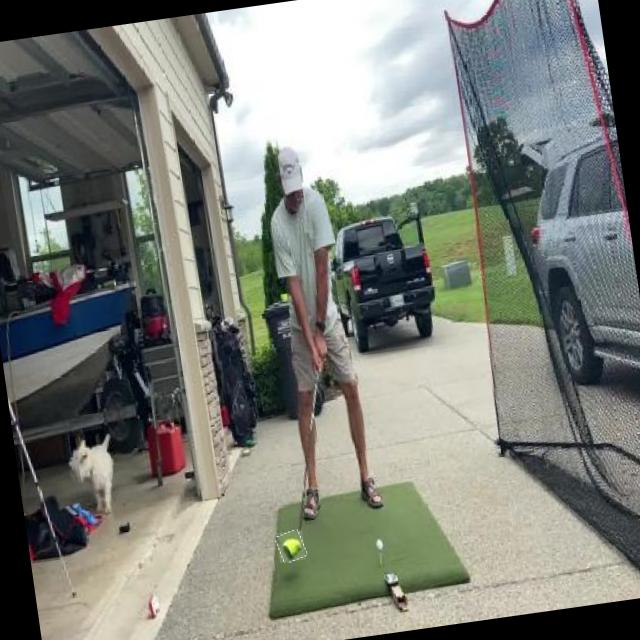club head: (276, 530, 306, 562)
